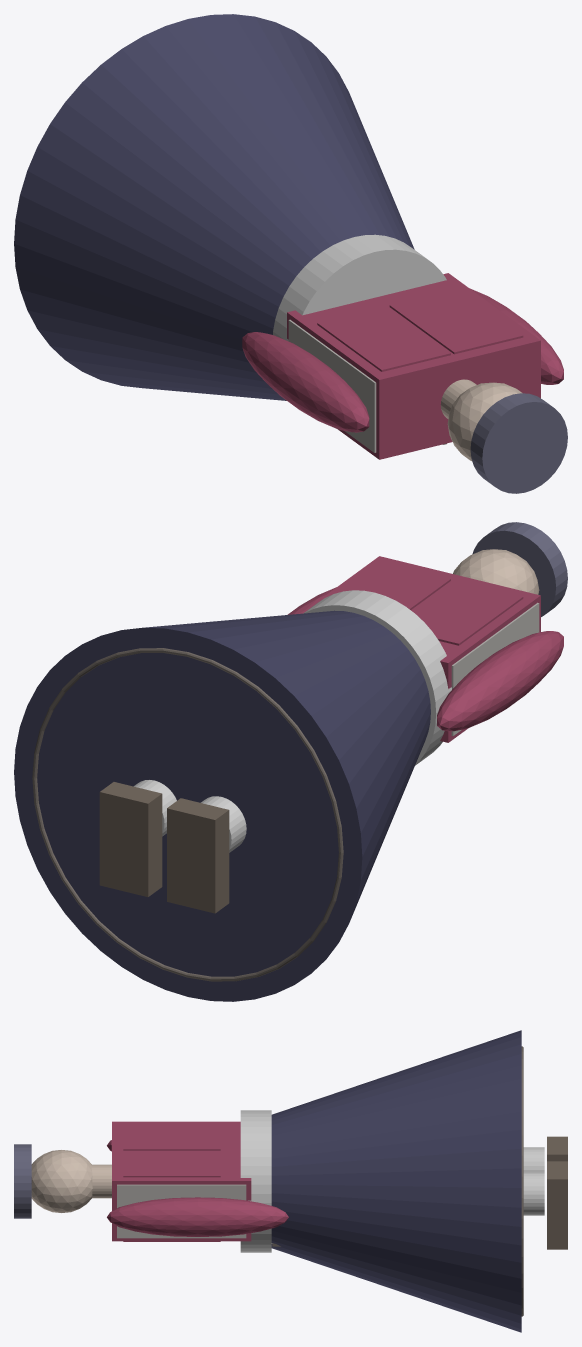
File: MASTER_047_STAGE3_DETAIL.glb
The picture shows the model from 3 angles, top to bottom: view 1: azimuth 30°, elevation 25°; view 2: azimuth 150°, elevation 25°; view 3: azimuth 270°, elevation 25°; orthographic projection. The views are drawn at different scales.
Parts seen in each view (by area): view 1: slot_lower_main__fund_i_gjatë, slot_upper_inner__këmishë, slot_waist__brez, slot_headwear__mbulesë_koke, slot_upper_inner_sleeve_L, slot_upper_outer__jelek/xhamadan_L, slot_upper_outer__jelek/xhamadan_R, mannequin_torso, mannequin_head, slot_upper_inner_sleeve_R; view 2: slot_lower_main__fund_i_gjatë, slot_footwear__opinga_R, slot_footwear__opinga_L, slot_upper_inner_sleeve_L, detail_skirt_hem, slot_waist__brez, slot_upper_outer__jelek/xhamadan_L, slot_headwear__mbulesë_koke, slot_upper_inner__këmishë, slot_upper_outer__jelek/xhamadan_R, mannequin_head, mannequin_torso (+2 smaller); view 3: slot_lower_main__fund_i_gjatë, slot_upper_inner_sleeve_R, slot_upper_inner__këmishë, mannequin_head, slot_waist__brez, slot_upper_outer__jelek/xhamadan_R, mannequin_torso, slot_upper_outer__jelek/xhamadan_L, slot_footwear__opinga_R, slot_headwear__mbulesë_koke, slot_legwear__çorape_R, detail_skirt_hem (+3 smaller).
Part boxes in pixels (x1,y1,x2,y2): slot_lower_main__fund_i_gjatë: (14,14,414,400); slot_upper_inner__këmishë: (287,273,540,459); slot_waist__brez: (273,234,446,341); slot_headwear__mbulesë_koke: (470,393,567,493); slot_upper_inner_sleeve_L: (242,332,369,432); slot_upper_outer__jelek/xhamadan_L: (317,306,450,371); slot_upper_outer__jelek/xhamadan_R: (389,288,523,354); mannequin_torso: (288,319,376,452); mannequin_head: (447,382,522,460); slot_upper_inner_sleeve_R: (470,288,563,384); slot_lower_main__fund_i_gjatë: (14,610,430,1001); slot_footwear__opinga_R: (99,782,162,896); slot_footwear__opinga_L: (167,798,229,913); slot_upper_inner_sleeve_L: (437,631,563,731); detail_skirt_hem: (32,648,343,981); slot_waist__brez: (303,590,451,765); slot_upper_outer__jelek/xhamadan_L: (412,579,523,645); slot_headwear__mbulesë_koke: (472,522,567,616); slot_upper_inner__këmishë: (301,556,540,742); slot_upper_outer__jelek/xhamadan_R: (341,562,450,609); mannequin_head: (453,549,539,594); mannequin_torso: (451,602,539,735); slot_lower_main__fund_i_gjatë: (271,1030,521,1332); slot_upper_inner_sleeve_R: (107,1197,288,1236); slot_upper_inner__këmishë: (112,1121,251,1241); mannequin_head: (31,1150,92,1212); slot_waist__brez: (240,1110,271,1252); slot_upper_outer__jelek/xhamadan_R: (123,1150,220,1241); mannequin_torso: (117,1184,246,1238); slot_upper_outer__jelek/xhamadan_L: (123,1124,220,1150); slot_footwear__opinga_R: (547,1161,567,1249); slot_headwear__mbulesë_koke: (14,1144,31,1218); slot_legwear__çorape_R: (523,1172,544,1215); detail_skirt_hem: (521,1046,523,1316).
Size of the model in its own units: 0.9355 by 0.9355 by 1.71.
